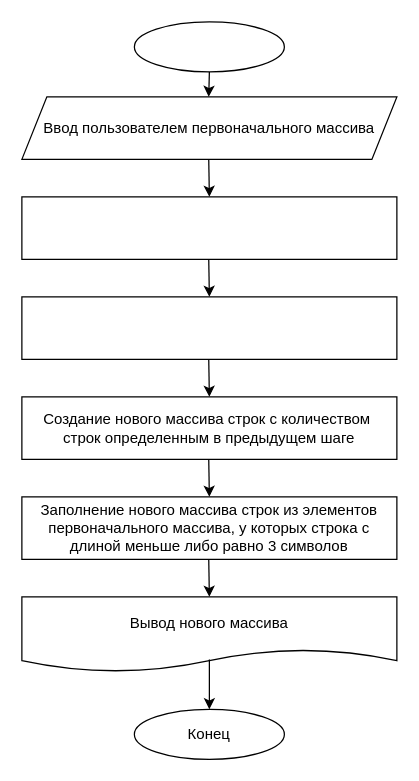
Some shapes in this 419 by 781 pixel diagram are drawn without their labels. The centre of each missing label's shape, as x and y in pixels:
Определение количества строк с длиной меньше либо равно 3 символов: [209,327]
Превращение входного массива в массив строк: [209,227]
Старт: [208,46]
